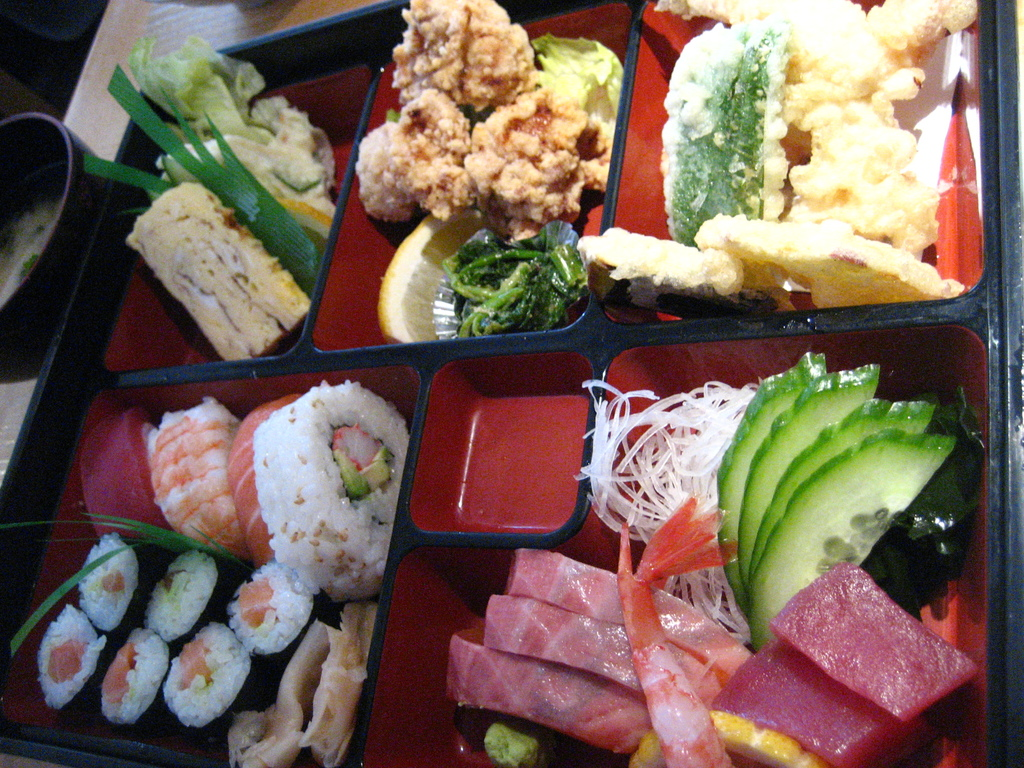sushi: (35, 378, 410, 741)
